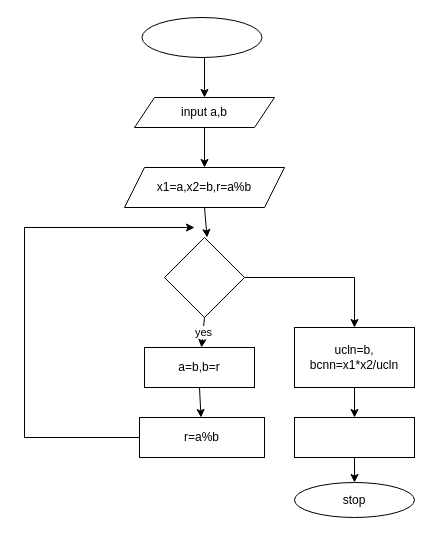
This 432x535 diagram has some shape labels left out. The shapes that lost their labels are listed below. From the top down, each one's box as (x1, y1, x2, y2) in pixels, then its label:
(141, 16, 262, 58): start
(164, 236, 244, 318): r!=0
(294, 416, 414, 458): display ucln, bcnn
